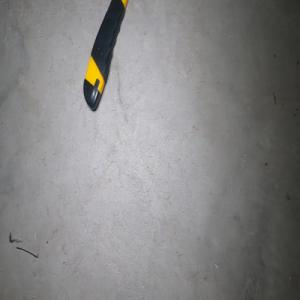Cutter: (82, 0, 129, 112)
